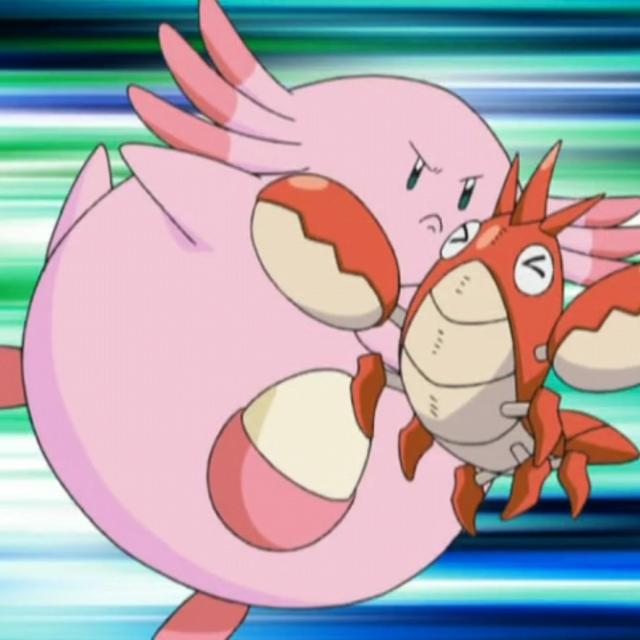Chansey: (29, 78, 558, 602)
